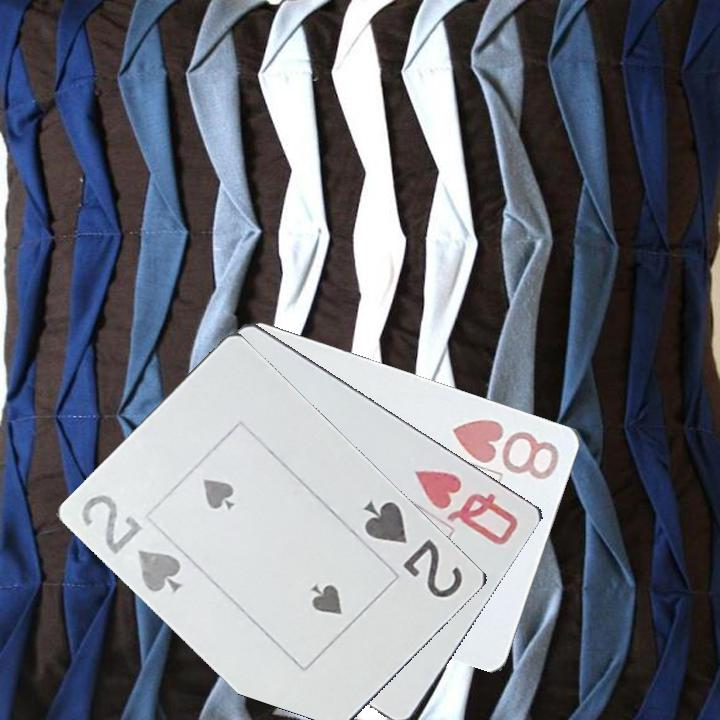2s: (78, 489, 186, 596), (360, 496, 466, 601)
8h: (449, 415, 563, 483)
Qh: (410, 466, 522, 551)
